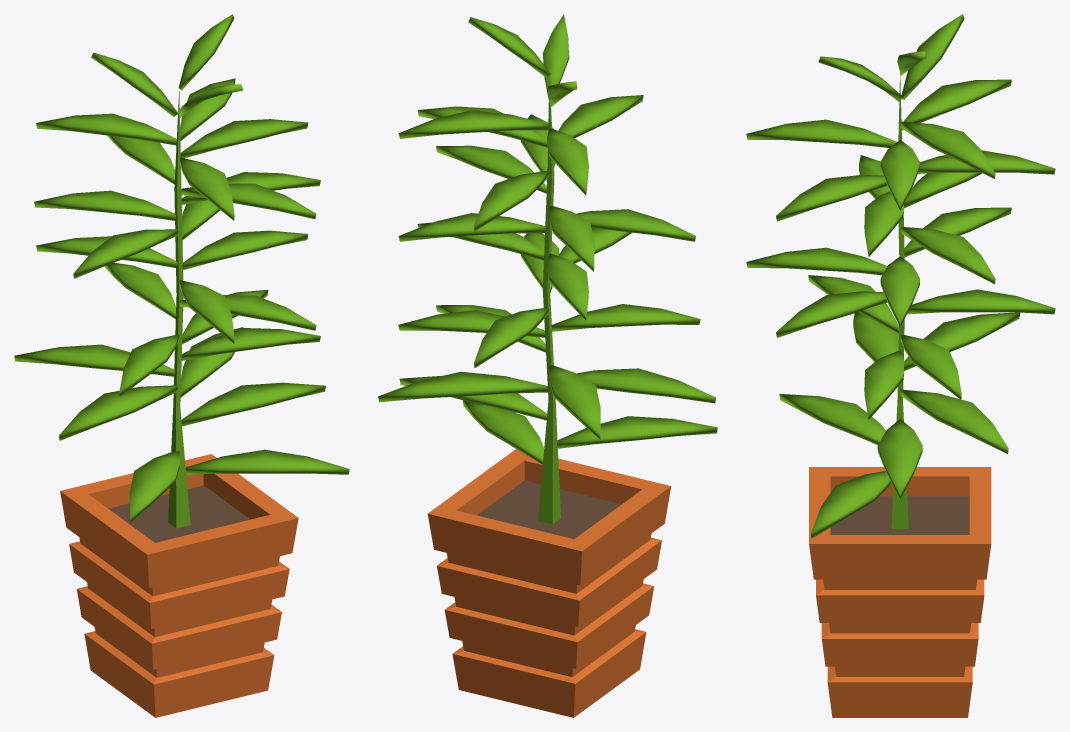
The model's file is House Plant.glb.
The picture shows the model from 3 angles, left to right: view 1: azimuth 30°, elevation 25°; view 2: azimuth 150°, elevation 25°; view 3: azimuth 270°, elevation 25°; orthographic projection. The views are drawn at different scales.
Parts seen in each view (by area): view 1: Plant2; view 2: Plant2; view 3: Plant2.
Part boxes in pixels (x1,y1,x2,y2): Plant2: [14, 14, 349, 717]; Plant2: [378, 14, 717, 717]; Plant2: [746, 14, 1055, 717].
Size of the model in its own units: 0.5137 by 1.09 by 0.4569.
